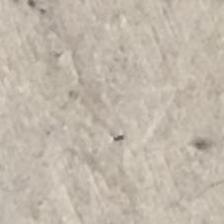Crack: (36, 8, 148, 145)
Non_Crack: (25, 157, 223, 213)
